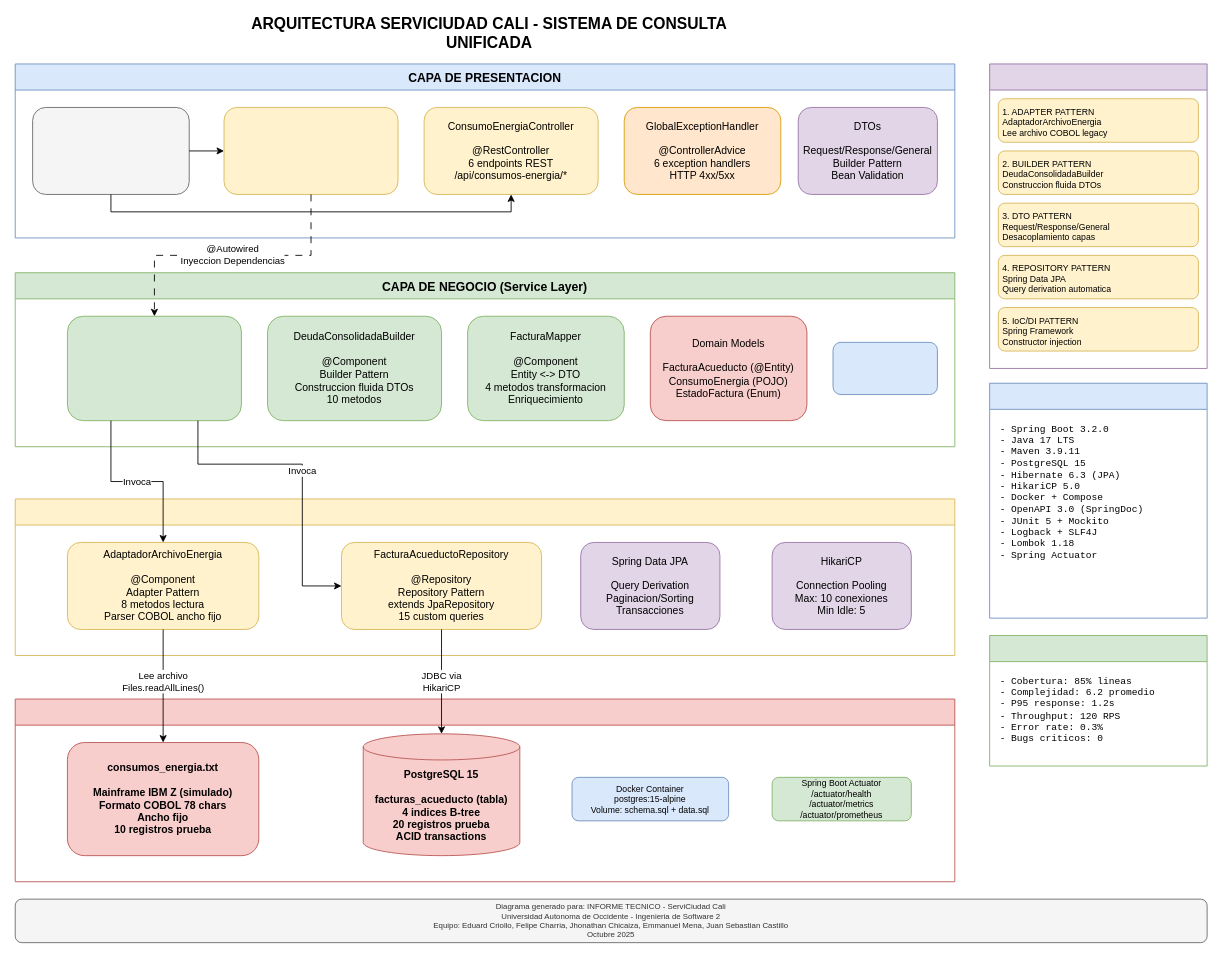
Image size: 1222x958. Some labels were removed from this diagram. Each missing label, with the box of its shape:
CAPA DE DATOS: (14, 698, 955, 882)
CAPA DE PERSISTENCIA E INTEGRACION: (14, 498, 955, 656)
Cliente HTTP/Mobile App Peticiones REST JSON Request/Response: (32, 107, 189, 194)
FacturaAcueductoController @RestController 12 endpoints REST /api/facturas/*: (223, 107, 398, 194)
FacturaAcueductoService @Service Logica de negocio 13 metodos @Transactional: (67, 315, 241, 421)
IoC/DI Pattern Constructor Injection @RequiredArgsConstructor: (832, 341, 937, 395)
METRICAS DE CALIDAD: (989, 635, 1207, 766)
PATRONES IMPLEMENTADOS: (989, 63, 1207, 368)
STACK TECNOLOGICO: (989, 382, 1207, 618)
